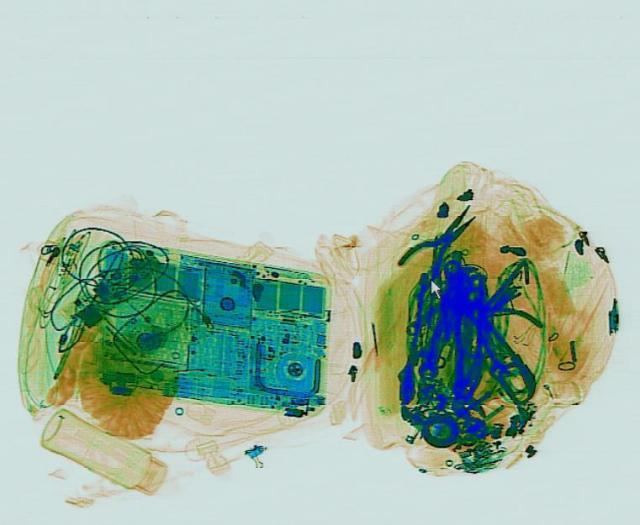Pliers: (387, 196, 495, 287)
